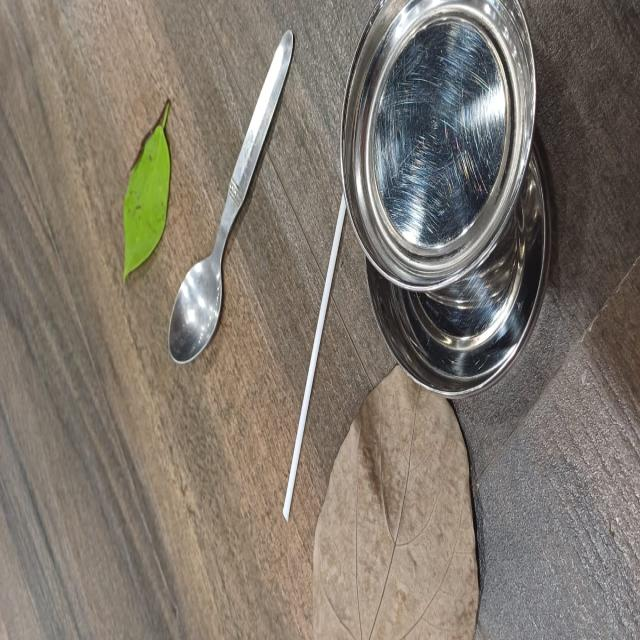Leaf-Bio: (306, 353, 481, 640), (120, 96, 172, 284)
Steel-NonBio: (344, 0, 554, 395), (170, 15, 301, 365)
Straw-NonBio: (277, 188, 353, 523)
